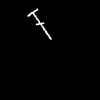double_crochet: (28, 9, 50, 38)
